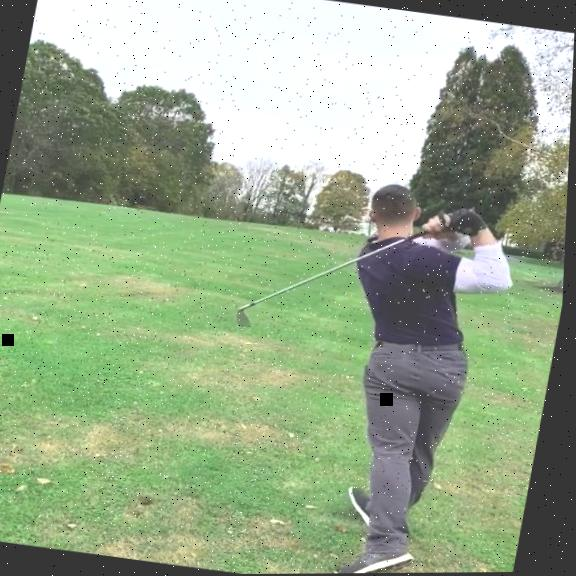ClubHead: (237, 310, 258, 329)
